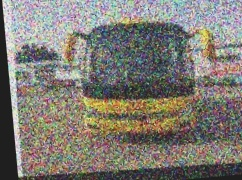bus: (65, 10, 221, 142)
